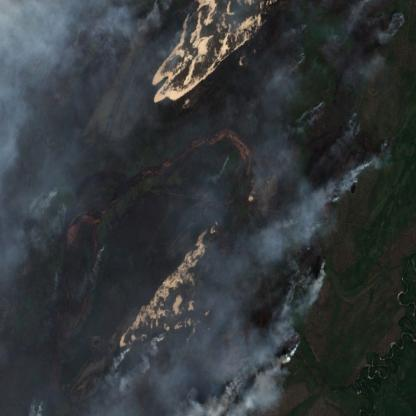fire: (180, 0, 411, 416)
